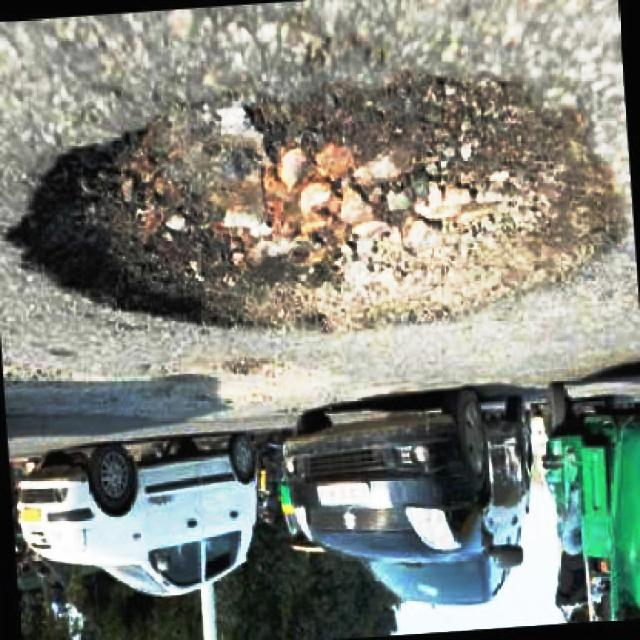pothole: (11, 51, 632, 335)
